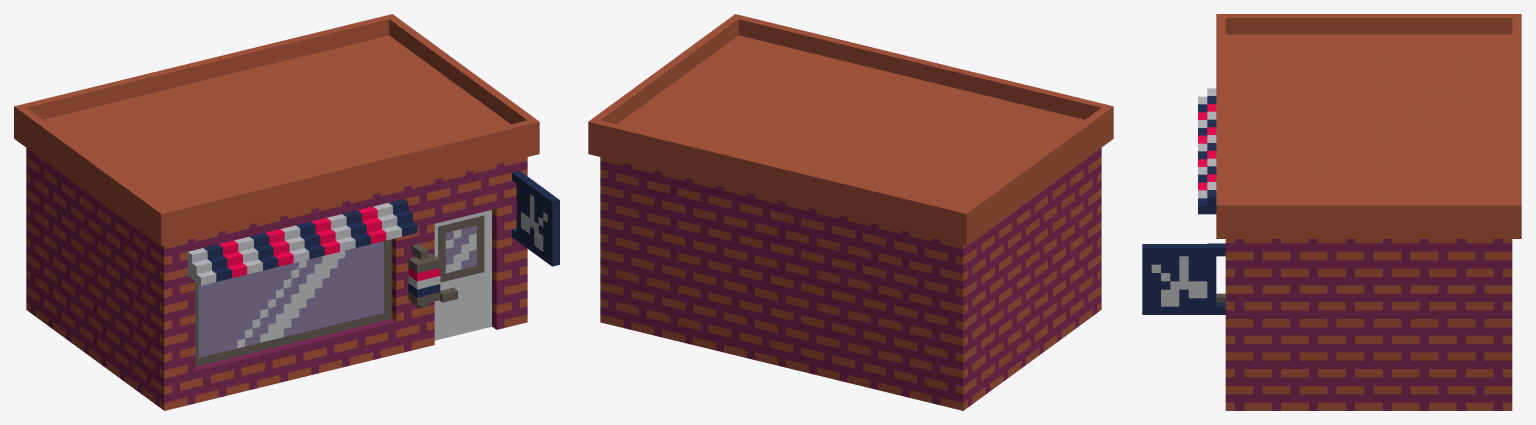
Rendered from barber_shop_a.obj.
3 renders of one model, left to right at view 1: azimuth 30°, elevation 25°; view 2: azimuth 150°, elevation 25°; view 3: azimuth 270°, elevation 25°, orthographic. The views are drawn at different scales.
Bounding box in the file's own units: 4.9 × 2.5 × 4.1.
Materials: 1 (1 with a texture image).
